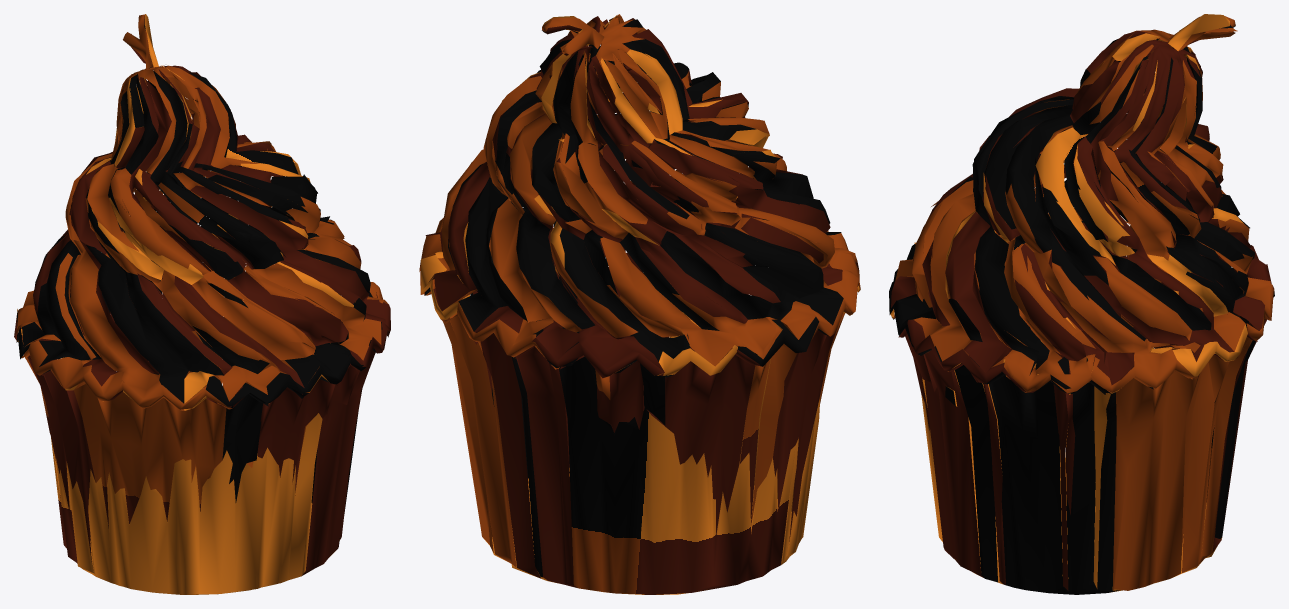
File: cupcake.fbx
The picture shows the model from 3 angles, left to right: view 1: azimuth 30°, elevation 25°; view 2: azimuth 150°, elevation 25°; view 3: azimuth 270°, elevation 25°; orthographic projection. The views are drawn at different scales.
Visible parts, largest first — view 1: cupcake; view 2: cupcake; view 3: cupcake.
Boxes of the visible parts, <box> form: cupcake: <box>14,14,390,594</box>; cupcake: <box>419,14,860,594</box>; cupcake: <box>889,14,1274,594</box>.
Size of the model in its own units: 72.07 by 100 by 67.11.
